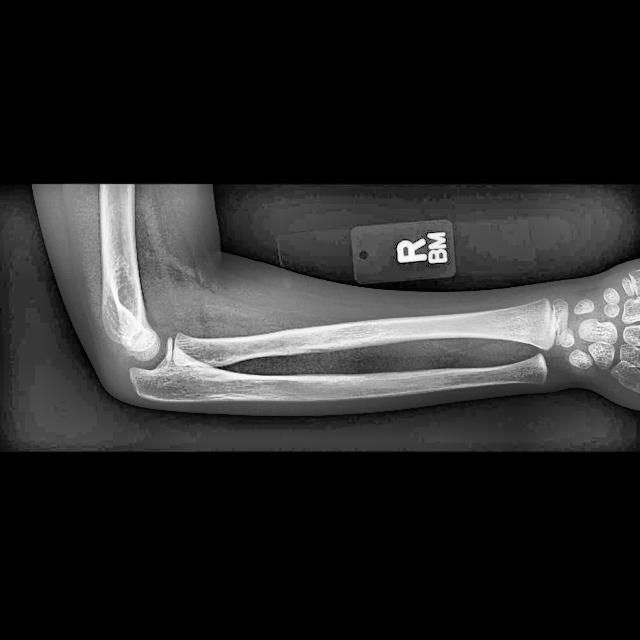fracture: (545, 298, 562, 346)
